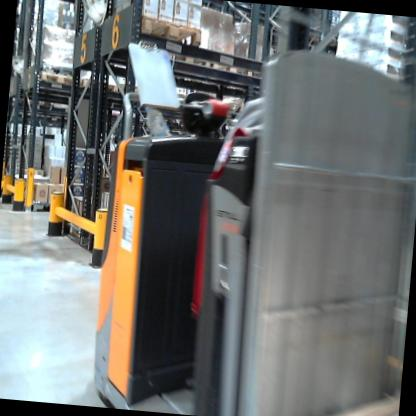pallet: (127, 11, 210, 54), (20, 60, 80, 92), (58, 217, 108, 255), (79, 75, 119, 96)
pallet_truck: (79, 24, 416, 416)
